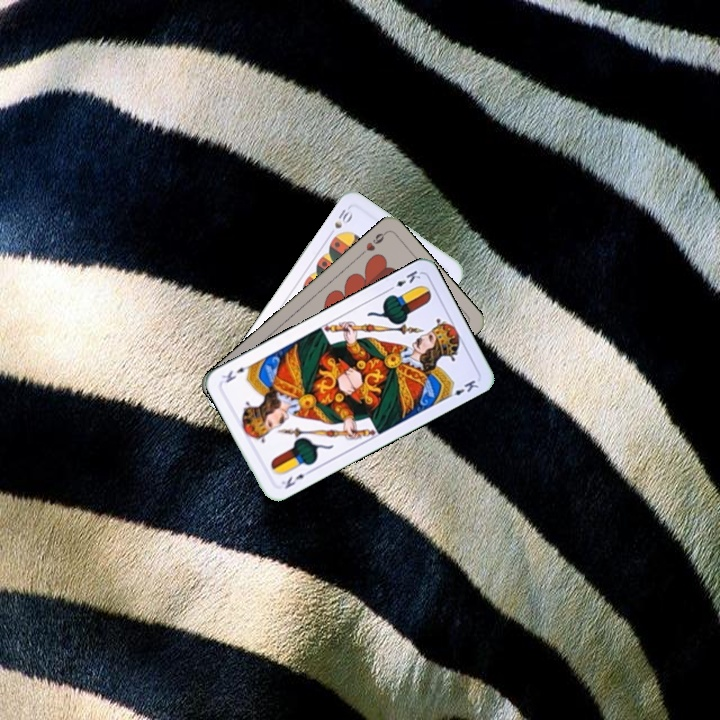EK: (384, 266, 423, 294), (277, 466, 314, 491)
H9: (356, 228, 389, 259)
S10: (324, 204, 355, 239)
